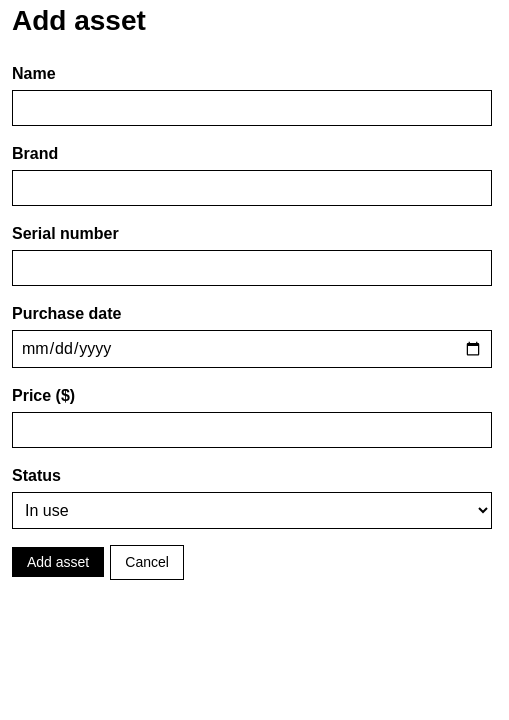
Test: AssetForm › shows errors when required fields are empty
The width and height of the screenshot is (509, 720).
What coordinates should you click on to do the following:
click the button "Add asset"
I would click on:
 (58, 562)
Its box is [12, 547, 104, 577].
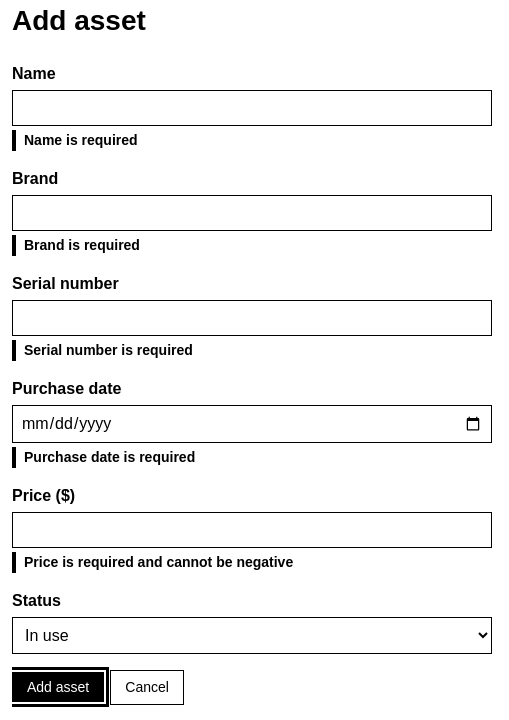
Result: the text "Name is required" is shown at [12, 130, 492, 151]
Result: the text "Brand is required" is shown at [12, 235, 492, 256]
Result: the text "Serial number is required" is shown at [12, 340, 492, 361]
